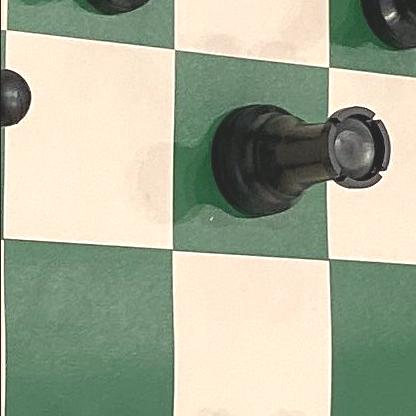black-pawn: (0, 44, 54, 176), (49, 0, 244, 24)
black-rook: (200, 89, 413, 231)
